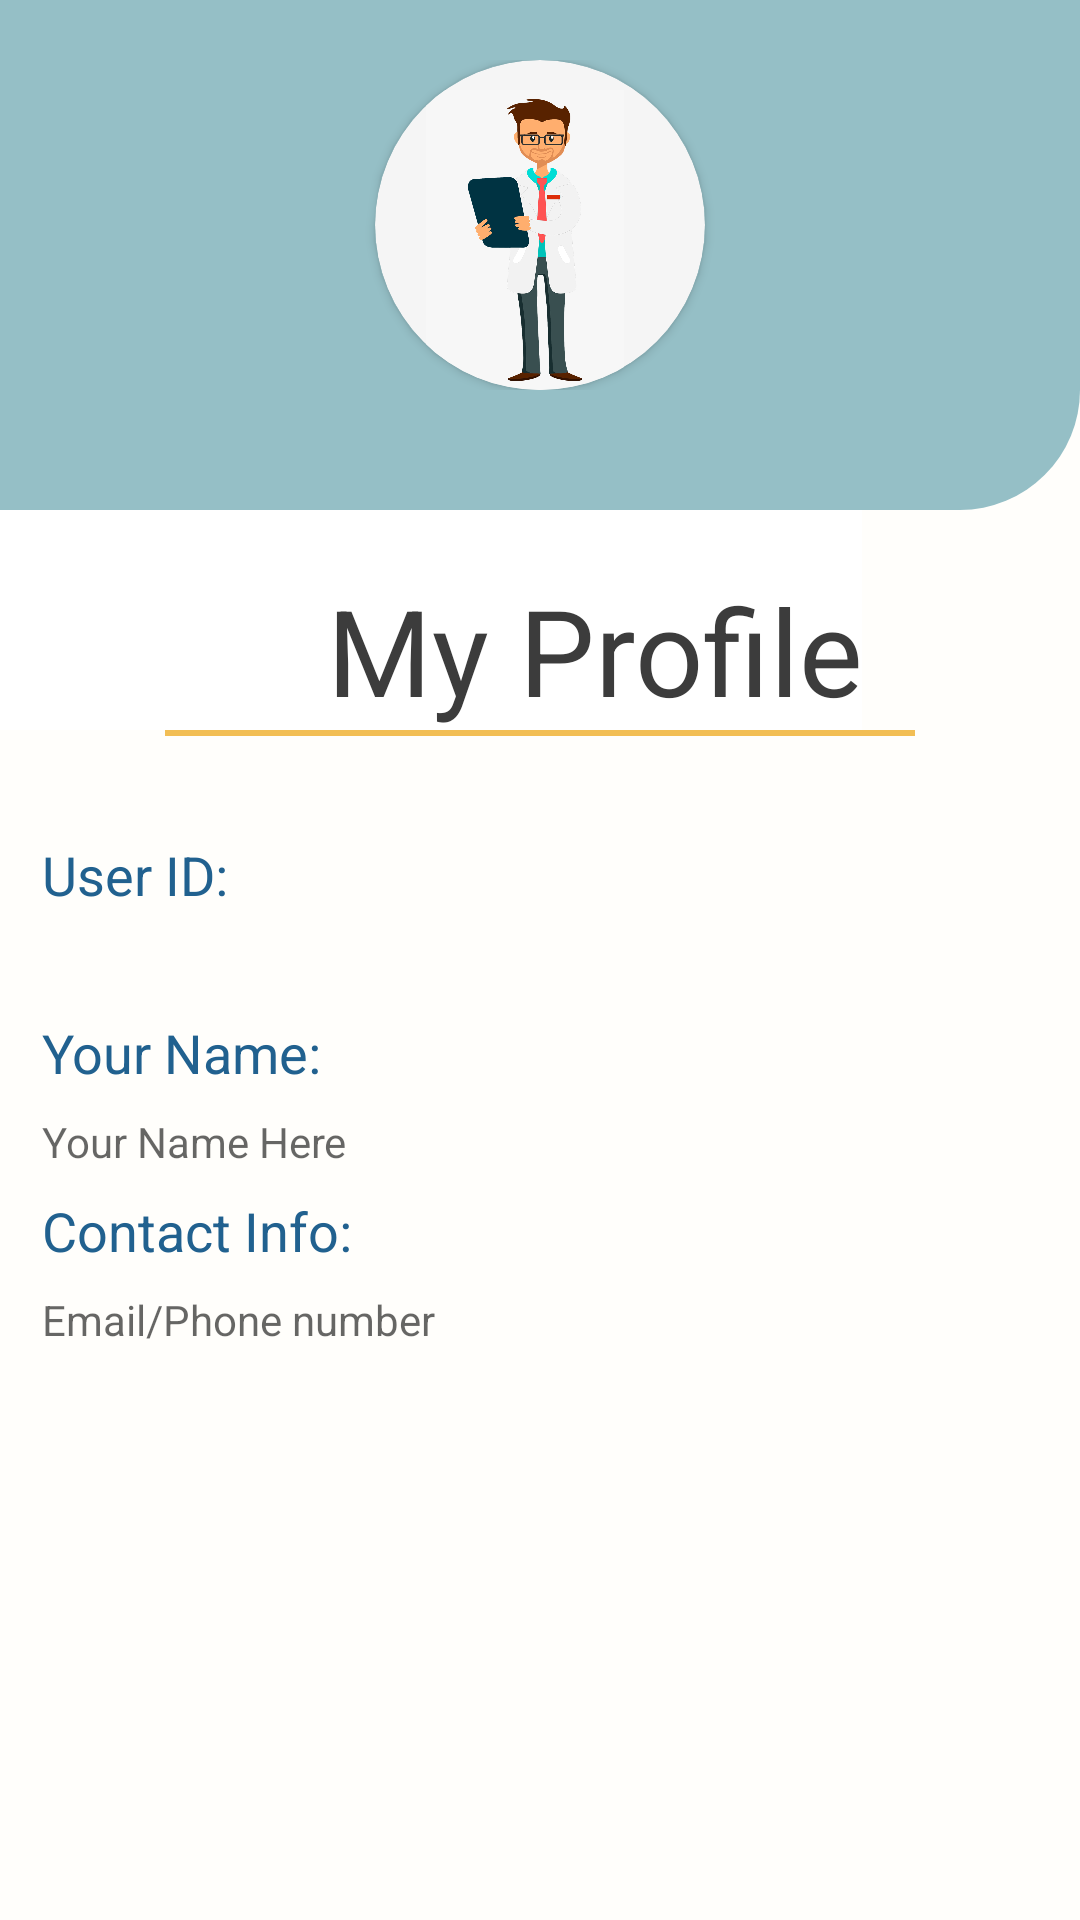

Locate icon controls on the screen. Image size 1080×1920, boxes as (x1, y1, x2, y2).
avatarfree: (375, 90, 675, 390)
